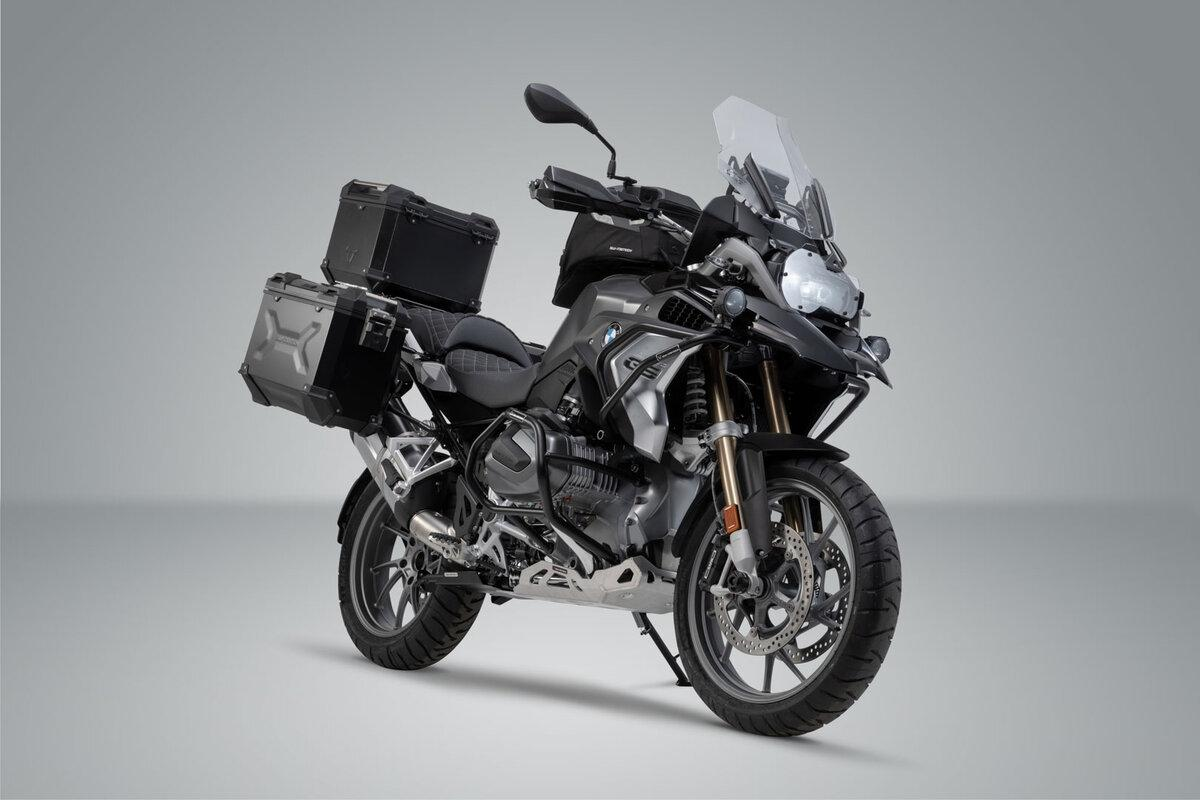engine-chasis: (412, 361, 697, 692)
exhaust: (349, 414, 458, 555)
frontside: (572, 93, 894, 599)
handlebar: (520, 81, 698, 246)
motorbike: (239, 83, 899, 733)
rearside: (236, 175, 501, 586)
seat: (406, 306, 547, 407)
tank: (552, 213, 687, 307), (542, 274, 653, 374), (662, 188, 701, 230)
wheel: (673, 456, 899, 734), (337, 480, 481, 667)
